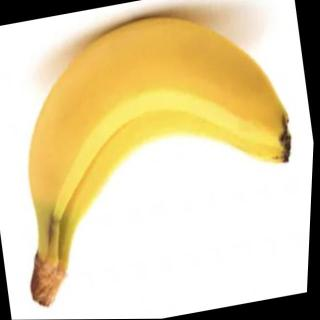banana: (2, 0, 304, 224), (20, 40, 302, 227)
